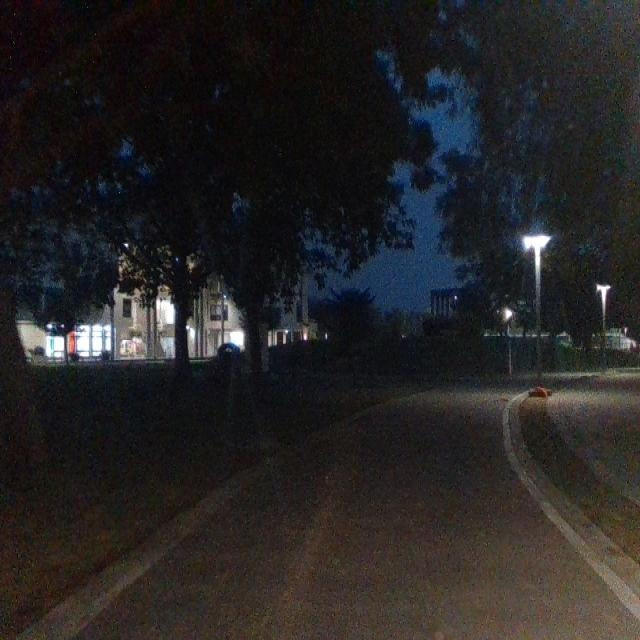lane: (73, 394, 640, 640)
